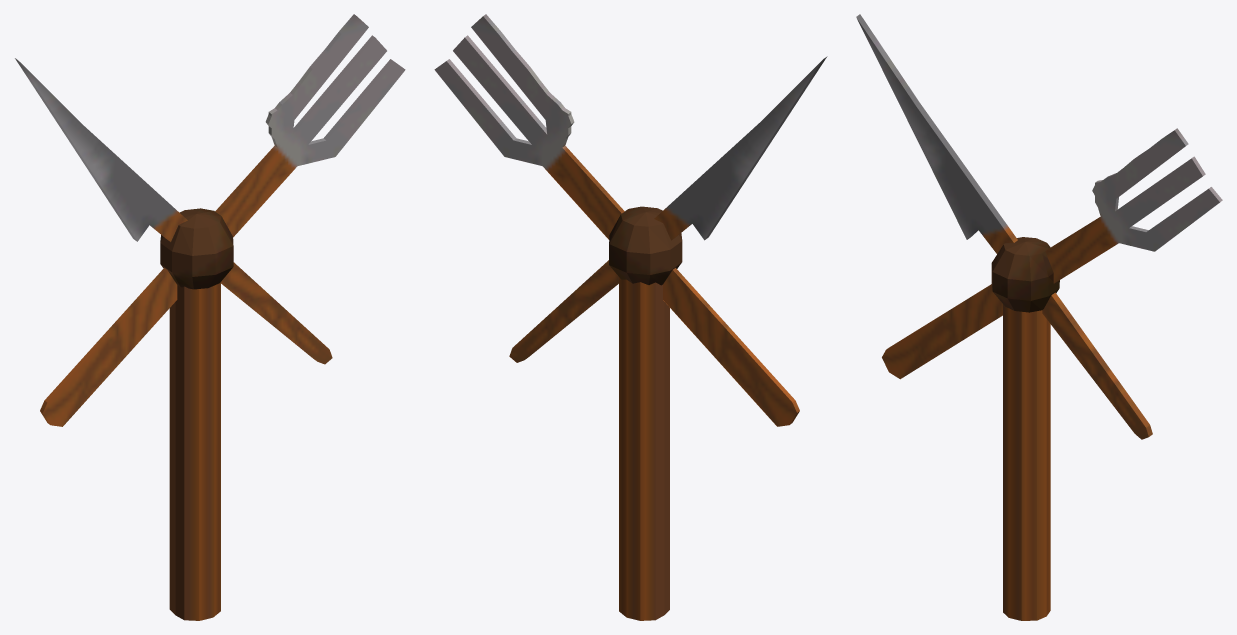
Rendered from Totem3.glb.
3 renders of one model, left to right at view 1: azimuth 30°, elevation 25°; view 2: azimuth 150°, elevation 25°; view 3: azimuth 330°, elevation 25°, orthographic. The views are drawn at different scales.
Visible parts, largest first — view 1: Totem3; view 2: Totem3; view 3: Totem3.
Part boxes in pixels (bbox=[...]): Totem3: bbox=[15, 14, 405, 620]; Totem3: bbox=[434, 14, 827, 620]; Totem3: bbox=[856, 14, 1222, 620].
Bounding box in the file's own units: 367 × 538 × 62.62.
1 material, 1 textured.
